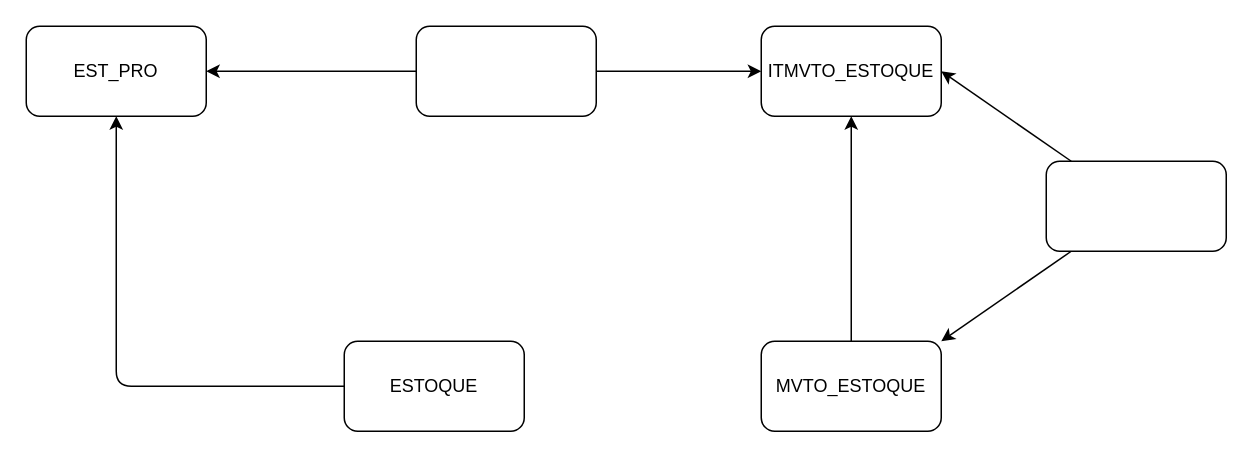
Some shapes in this 1253 by 458 pixel diagram are drawn without their labels. The shapes that lost their labels are listed below. From the top down, each one's centre as x and y in pixels, then its label:
(505,70): PRODUTO
(1135,205): UNI_PRO
